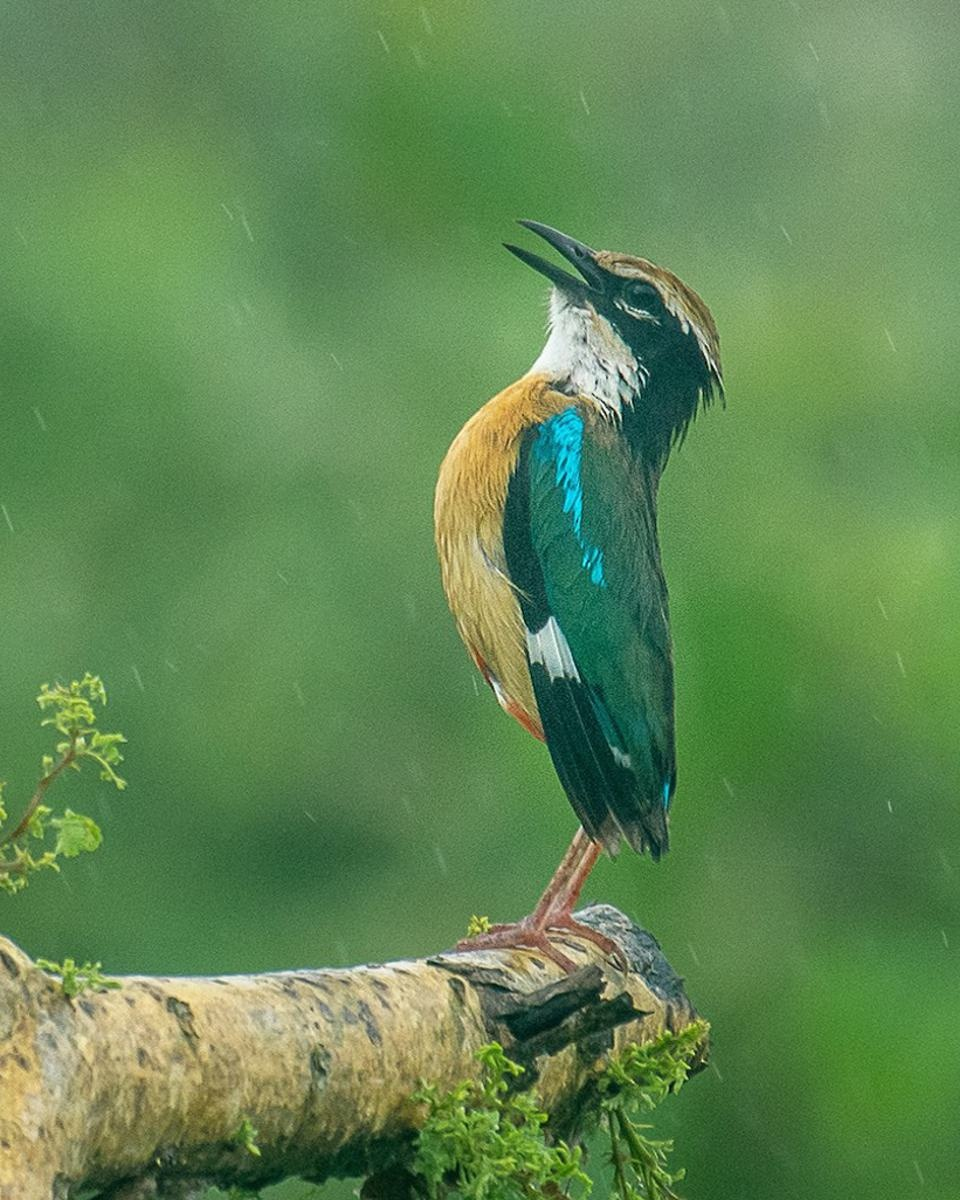pitta: (354, 163, 789, 1014)
